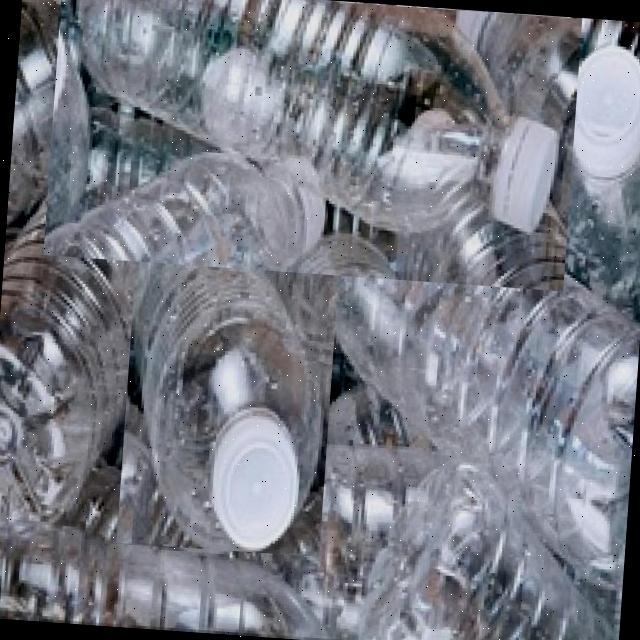bottle: (236, 122, 637, 594), (56, 0, 573, 285), (116, 209, 342, 556)
cap: (211, 405, 309, 552), (574, 41, 640, 184), (493, 109, 563, 239)
